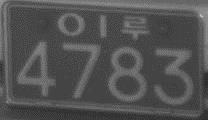0: (56, 12, 86, 37)
1: (92, 13, 115, 37)
3: (153, 47, 194, 105)
4: (16, 41, 56, 97)
7: (61, 41, 103, 100)
8: (107, 45, 147, 104)
루: (120, 14, 148, 41)
